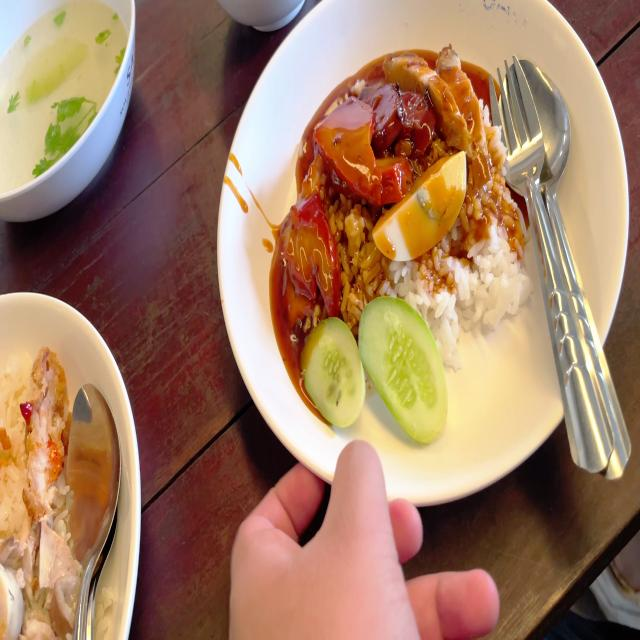boiled_chicken: (0, 523, 82, 640)
boiled_egg: (374, 153, 467, 260)
chainese_sausage: (376, 78, 432, 160)
chicken_rice: (0, 344, 85, 640)
crispy_pork: (406, 48, 493, 191)
cucumber: (357, 294, 448, 445), (292, 315, 367, 426)
fried_chicken: (27, 347, 68, 518)
red_pork: (311, 89, 398, 205), (286, 200, 334, 316)
red_pork_and_crispy_pork: (278, 45, 541, 446)
